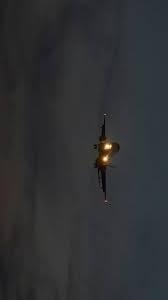Plane: (74, 102, 136, 219)
